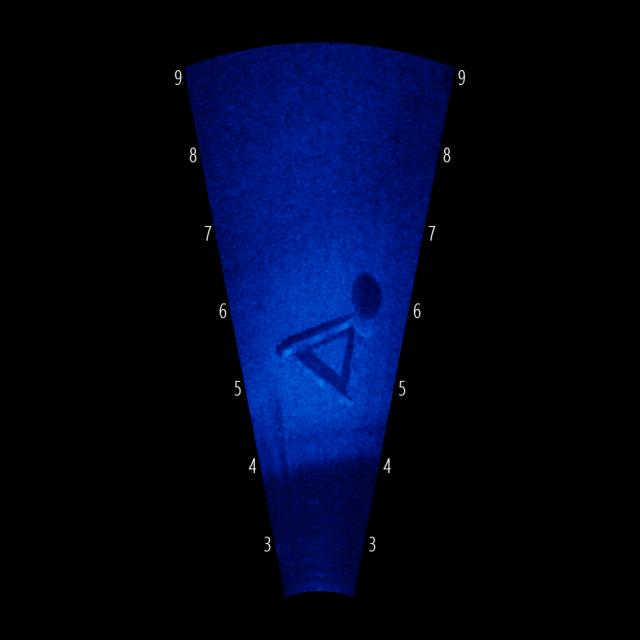triangle: (276, 299, 371, 422)
